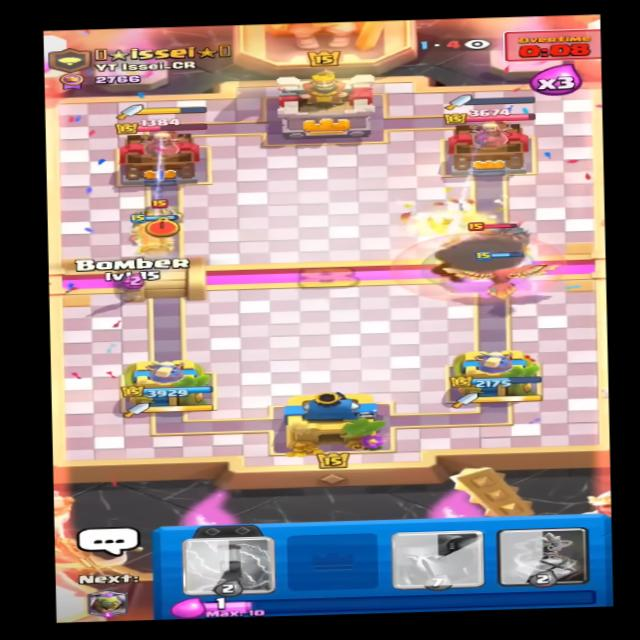Knight: (129, 185, 194, 233)
Pekka: (450, 215, 535, 255)
